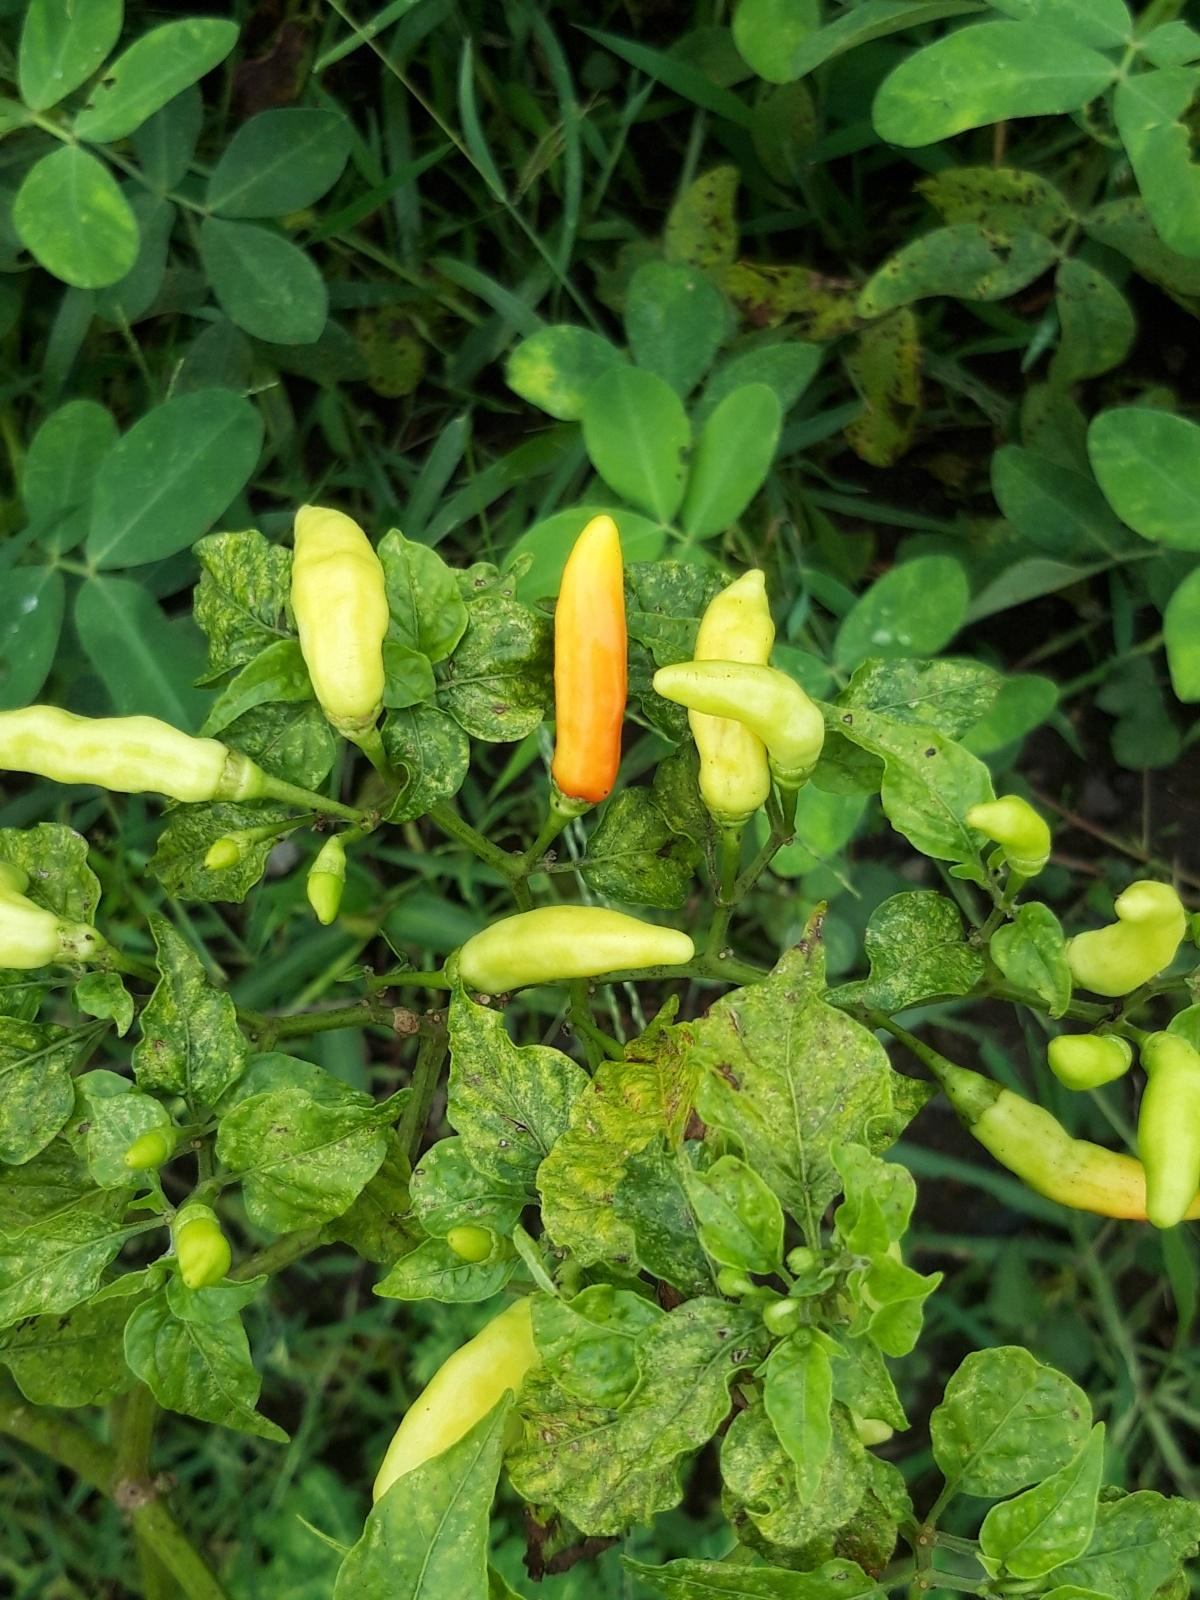cabai_normal: (372, 1295, 551, 1509), (968, 1083, 1200, 1220), (0, 706, 227, 805), (553, 515, 630, 799), (461, 905, 695, 994), (290, 504, 387, 716), (691, 568, 775, 797), (653, 660, 823, 771), (1070, 881, 1187, 997), (1137, 1042, 1200, 1228), (967, 797, 1050, 860), (1047, 1034, 1131, 1089), (0, 893, 59, 968), (179, 1217, 234, 1289), (309, 873, 343, 926), (449, 1227, 494, 1265), (125, 1135, 170, 1168), (204, 834, 241, 869)
